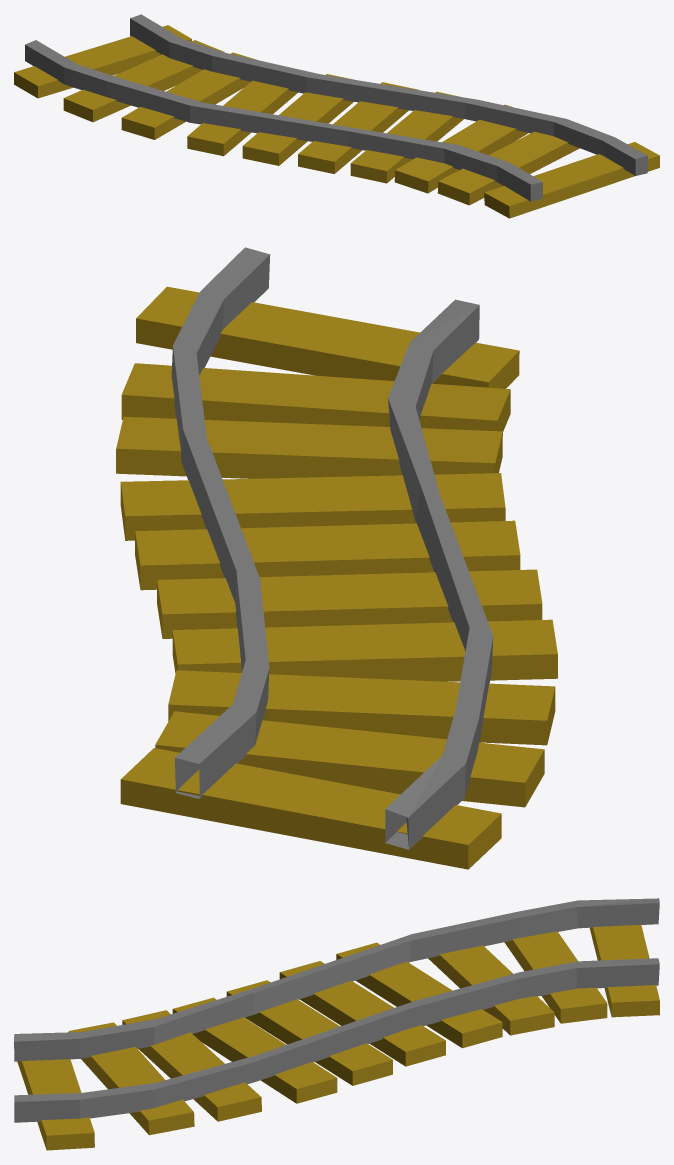
Rendered from S Bend Left.fbx.
The picture shows the model from 3 angles, top to bottom: view 1: azimuth 30°, elevation 25°; view 2: azimuth 150°, elevation 25°; view 3: azimuth 270°, elevation 25°; orthographic projection. The views are drawn at different scales.
Visible parts, largest first — view 1: Cube.009, Cube.012, Cube.000, Cube.011, Cube.014, Cube.013, Cube.019, Cube.016, Cube.015, Cube.018, Cube.017; view 2: Cube.009, Cube.011, Cube.018, Cube.013, Cube.019, Cube.015, Cube.012, Cube.016, Cube.017, Cube.000, Cube.014; view 3: Cube.009, Cube.016, Cube.015, Cube.017, Cube.018, Cube.013, Cube.019, Cube.000, Cube.014, Cube.012, Cube.011.
Part boxes in pixels (left/top/right/bottom): Cube.009: left=25, top=14, right=647, bottom=201; Cube.012: left=484, top=142, right=659, bottom=218; Cube.000: left=437, top=131, right=579, bottom=205; Cube.011: left=14, top=25, right=191, bottom=98; Cube.014: left=63, top=40, right=224, bottom=122; Cube.013: left=394, top=104, right=528, bottom=193; Cube.019: left=121, top=52, right=255, bottom=139; Cube.016: left=298, top=82, right=418, bottom=173; Cube.015: left=242, top=74, right=353, bottom=165; Cube.018: left=187, top=80, right=297, bottom=156; Cube.017: left=350, top=91, right=463, bottom=183; Cube.009: left=171, top=247, right=493, bottom=849; Cube.011: left=120, top=748, right=501, bottom=869; Cube.018: left=172, top=619, right=557, bottom=681; Cube.013: left=116, top=416, right=502, bottom=478; Cube.019: left=168, top=670, right=555, bottom=745; Cube.015: left=157, top=569, right=542, bottom=638; Cube.012: left=136, top=286, right=519, bottom=388; Cube.016: left=135, top=520, right=520, bottom=590; Cube.017: left=120, top=473, right=505, bottom=540; Cube.000: left=121, top=363, right=510, bottom=431; Cube.014: left=155, top=711, right=544, bottom=807; Cube.009: left=14, top=898, right=659, bottom=1122; Cube.016: left=226, top=980, right=392, bottom=1085; Cube.015: left=279, top=961, right=445, bottom=1066; Cube.017: left=172, top=997, right=337, bottom=1103; Cube.018: left=336, top=942, right=502, bottom=1048; Cube.013: left=122, top=1010, right=261, bottom=1121; Cube.019: left=428, top=945, right=554, bottom=1035; Cube.000: left=68, top=1022, right=194, bottom=1135; Cube.014: left=504, top=931, right=607, bottom=1023; Cube.012: left=17, top=1059, right=94, bottom=1150; Cube.011: left=589, top=925, right=659, bottom=1017.
Size of the model in its own units: 846 by 66.66 by 997.
